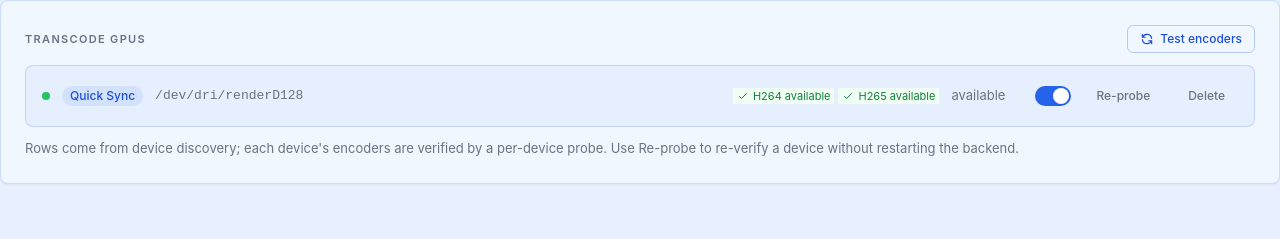
Test: GpusCard › a failed toggle does not refresh encoder availability
Click the switch at (1053, 96), box x1=1035 y1=86 x2=1071 y2=106
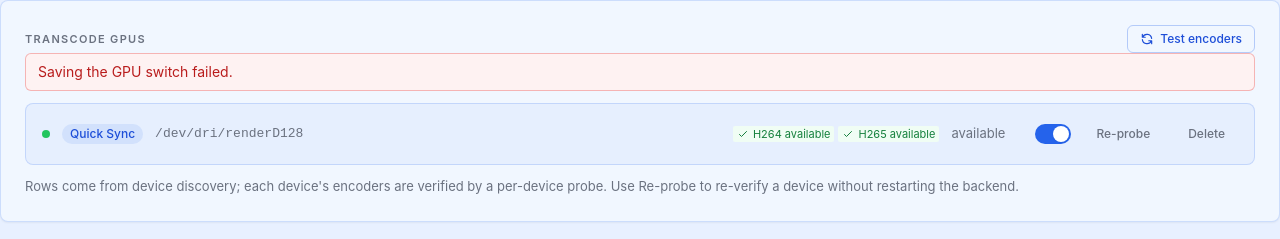
Result: the message "Saving the GPU switch failed." is shown at x1=25 y1=53 x2=1255 y2=91
